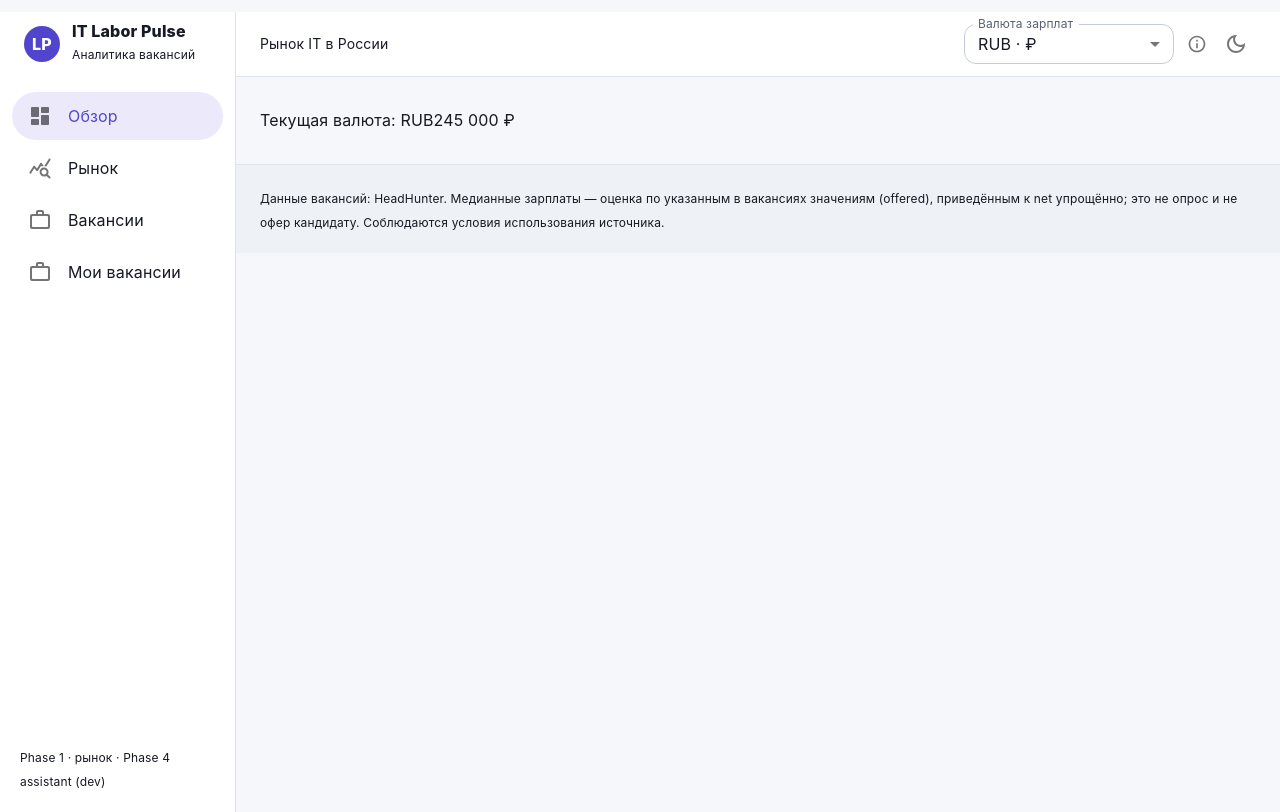
Test case: AppShell salary currency selector › exposes FX details through a keyboard-accessible info control
Hover over the button named "Информация о пересчёте зарплат": coordinates (1197, 44) [1182,29,1212,59]
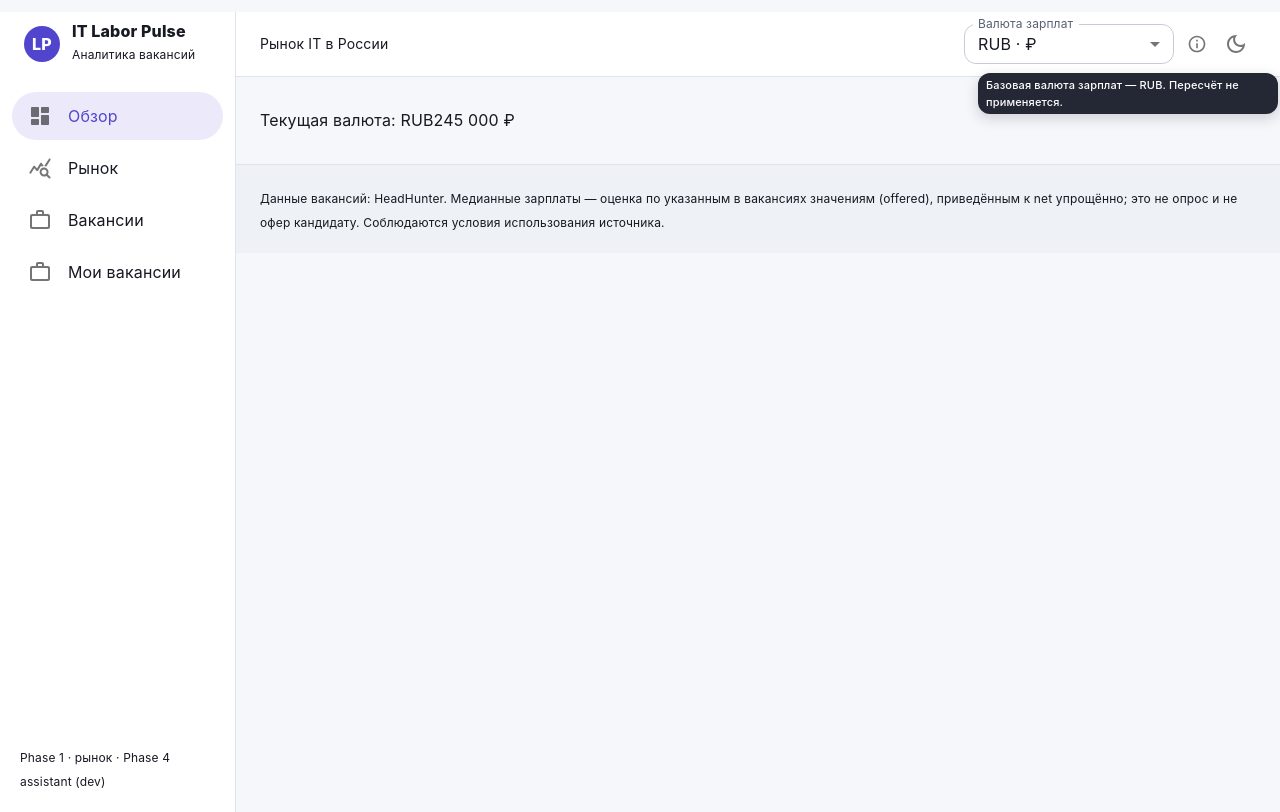
Check: the tooltip shows "Базовая валюта зарплат", box [986,78,1239,108]
Click the dropdown named "Валюта зарплат": coordinates (1007, 44) [978,34,1037,54]
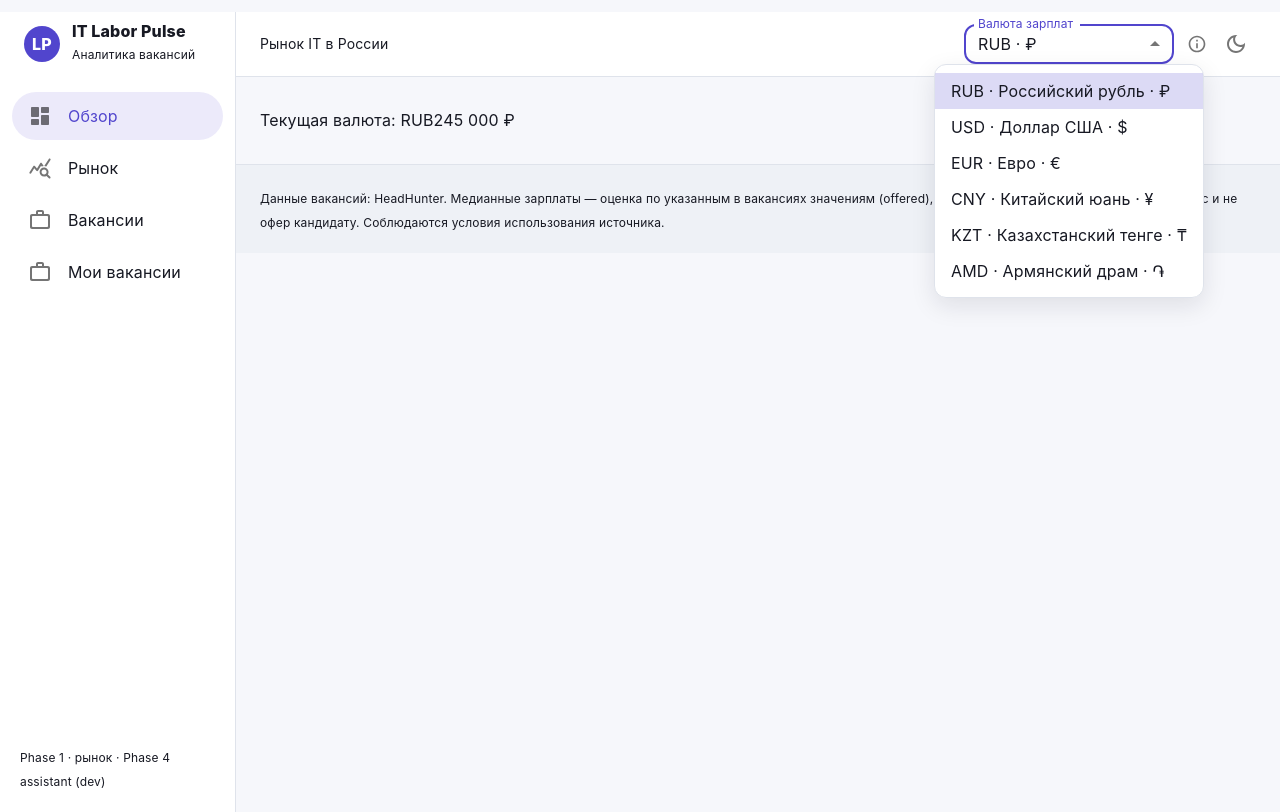
Check: the list is shown, box [935,65,1203,297]
